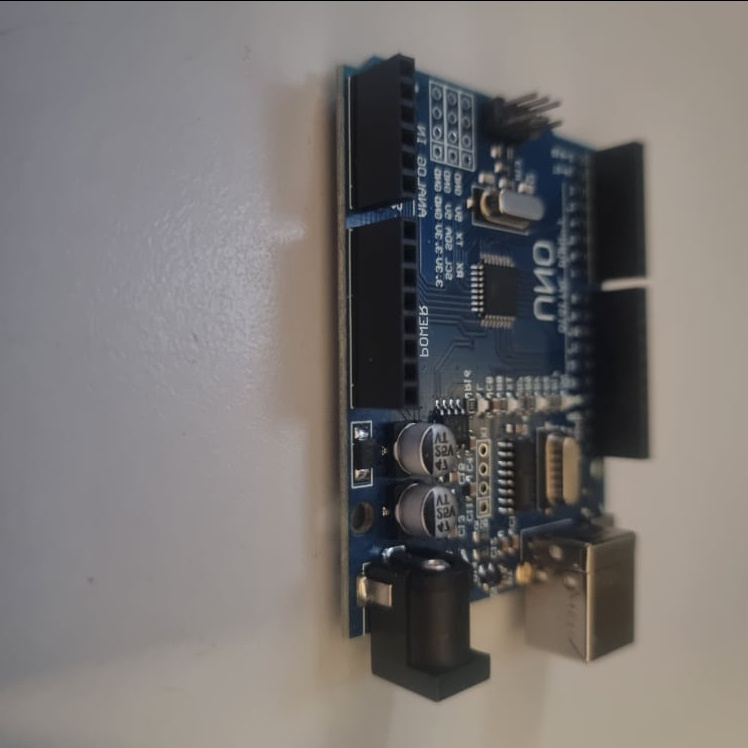UNO R3: (332, 51, 656, 702)
